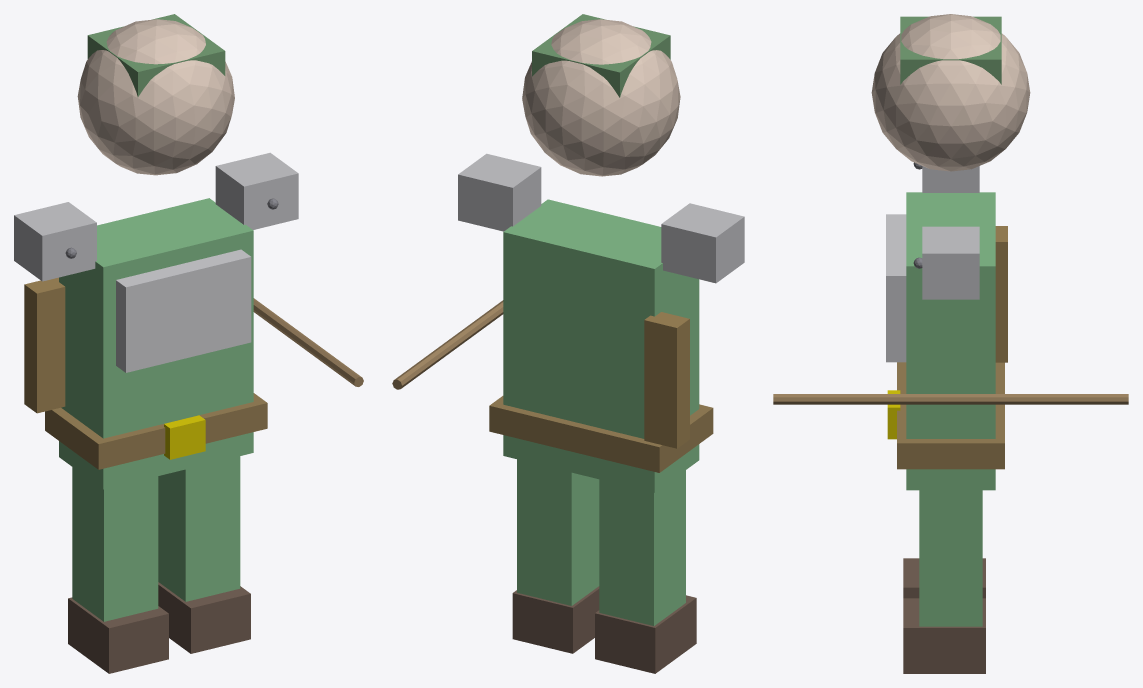
File: archer_f.glb
3 renders of one model, left to right at view 1: azimuth 30°, elevation 25°; view 2: azimuth 150°, elevation 25°; view 3: azimuth 270°, elevation 25°, orthographic.
Visible parts, largest first — view 1: geometry_0; view 2: geometry_0; view 3: geometry_0.
Boxes of the visible parts, box(x1,y1,x2,y2) form: geometry_0: box(14, 14, 363, 673); geometry_0: box(392, 14, 744, 673); geometry_0: box(773, 14, 1128, 673).
Size of the model in its own units: 0.94 by 2.15 by 1.12.
